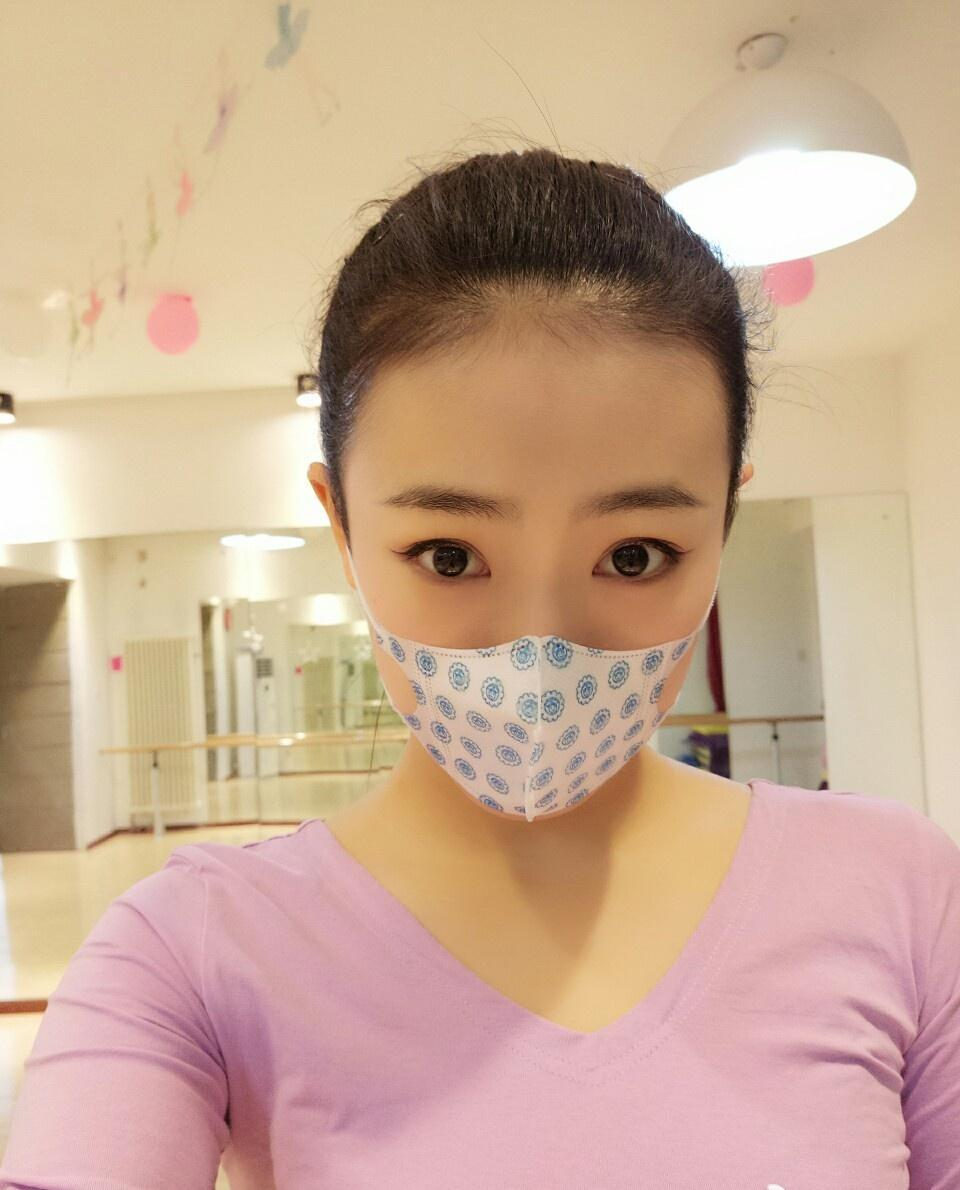OK: (340, 440, 724, 824)
